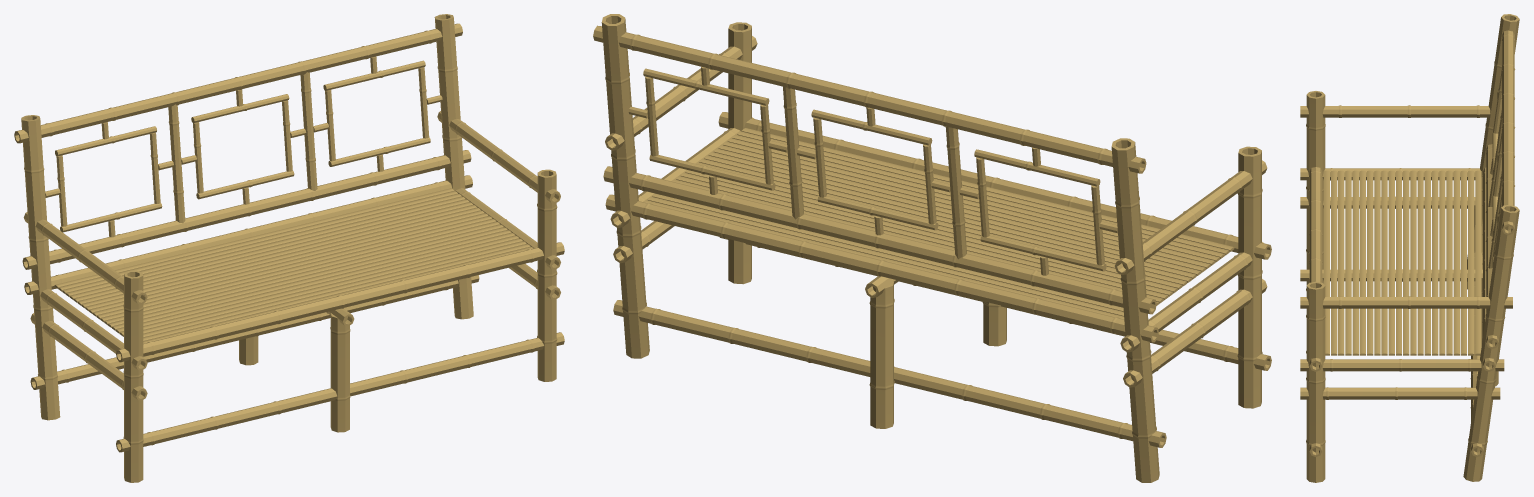
Rendered from ghe_bang_tre.mid.glb.
The picture shows the model from 3 angles, left to right: view 1: azimuth 30°, elevation 25°; view 2: azimuth 150°, elevation 25°; view 3: azimuth 270°, elevation 25°; orthographic projection. The views are drawn at different scales.
Parts seen in each view (by area): view 1: ghe_bang_tre; view 2: ghe_bang_tre; view 3: ghe_bang_tre.
Boxes of the visible parts, box(x1,y1,x2,y2) form: ghe_bang_tre: box(14, 14, 564, 482); ghe_bang_tre: box(593, 14, 1271, 482); ghe_bang_tre: box(1300, 14, 1519, 482).
Bounding box in the file's own units: 1.54 × 0.9538 × 0.6998.
